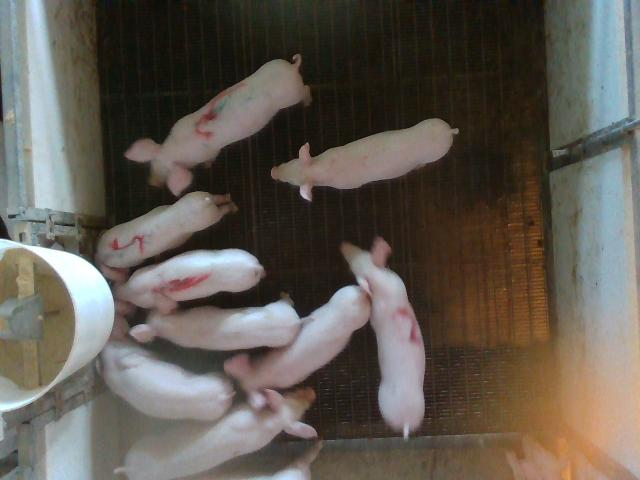pig-1: (99, 249, 265, 314)
pig-2: (341, 238, 425, 437)
pig-3: (125, 54, 311, 195)
pig-5: (95, 191, 236, 268)
